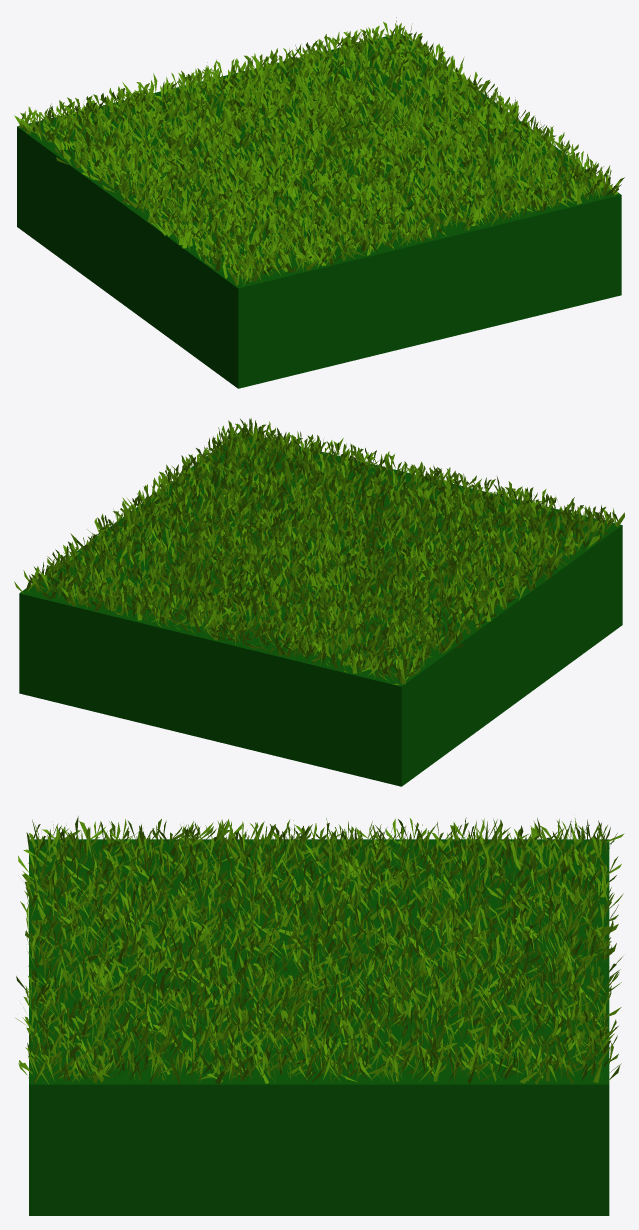
The model's file is grass.fbx.
3 renders of one model, top to bottom at view 1: azimuth 30°, elevation 25°; view 2: azimuth 150°, elevation 25°; view 3: azimuth 270°, elevation 25°, orthographic. The views are drawn at different scales.
Visible parts, largest first — view 1: grassplane|Plane.002|Dupli|3962; view 2: grassplane|Plane.002|Dupli|3962; view 3: grassplane|Plane.002|Dupli|3962.
Boxes of the visible parts, bbox=[...] form: grassplane|Plane.002|Dupli|3962: bbox=[14, 17, 624, 388]; grassplane|Plane.002|Dupli|3962: bbox=[14, 418, 624, 786]; grassplane|Plane.002|Dupli|3962: bbox=[16, 816, 624, 1215].
Bounding box in the file's own units: 105 × 29.76 × 105.
